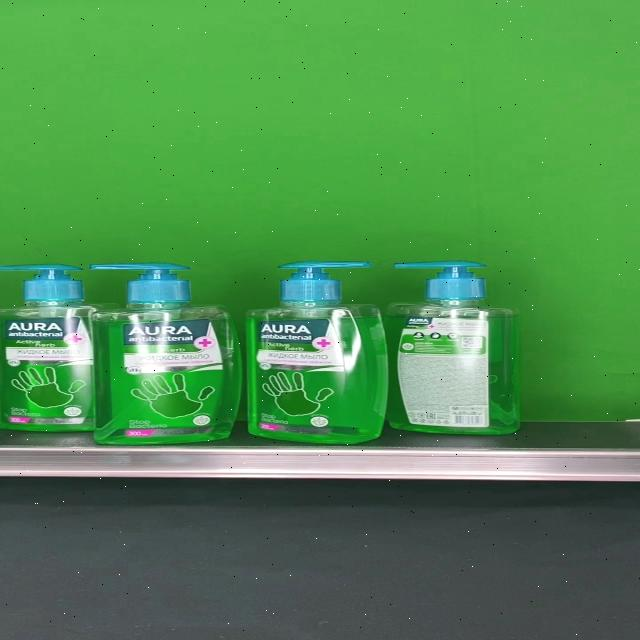Bottle: (91, 264, 242, 444), (248, 260, 388, 443), (386, 261, 521, 435), (0, 264, 121, 432)
Cap: (276, 260, 374, 301), (88, 264, 188, 302), (391, 261, 486, 301), (0, 264, 83, 300)
